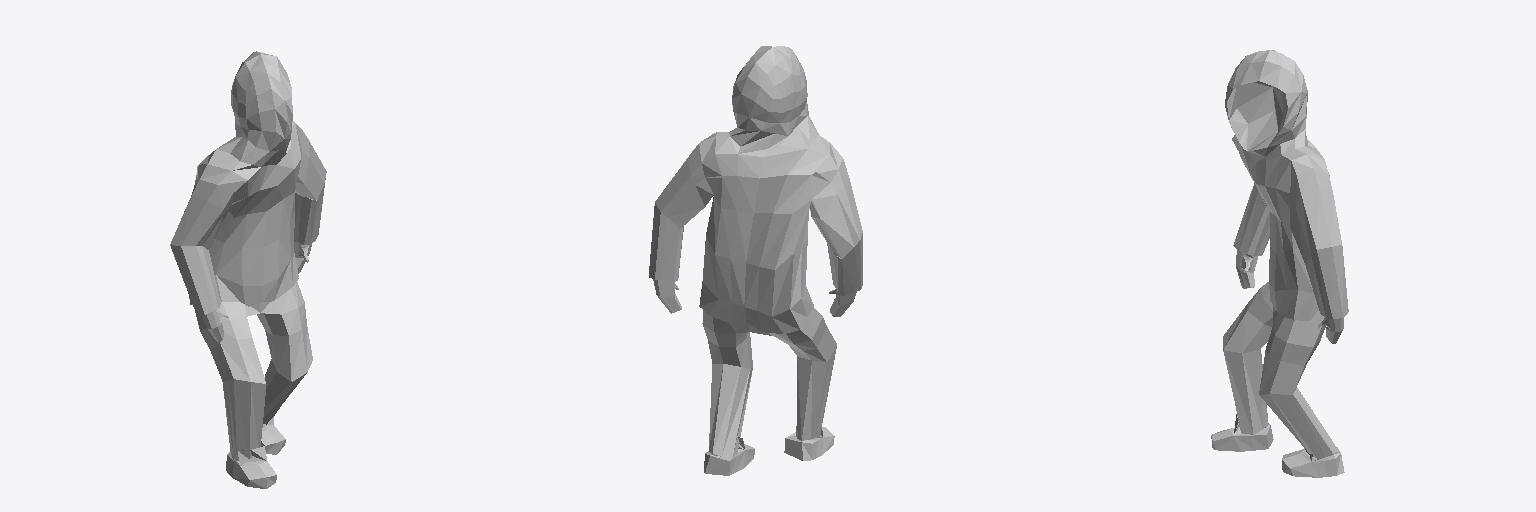
The model's file is Shadowmanv_000012.obj.
The picture shows the model from 3 angles: view 1: azimuth 30°, elevation 25°; view 2: azimuth 150°, elevation 25°; view 3: azimuth 270°, elevation 25°; orthographic projection.
Parts seen in each view (by area): view 1: Cube.000; view 2: Cube.000; view 3: Cube.000.
Boxes of the visible parts, <box> form: Cube.000: <box>170,51,326,488</box>; Cube.000: <box>649,46,862,475</box>; Cube.000: <box>1211,50,1348,477</box>.
Bounding box in the file's own units: 5.12 × 11.3 × 3.42.